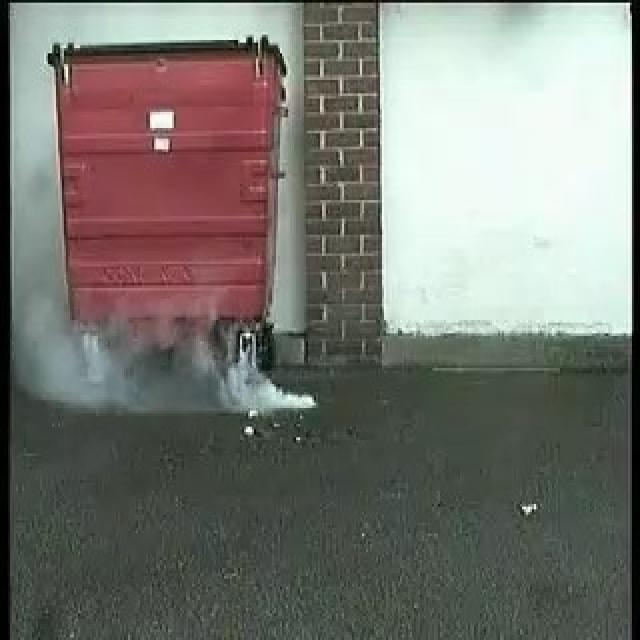smoke: (46, 313, 309, 413)
